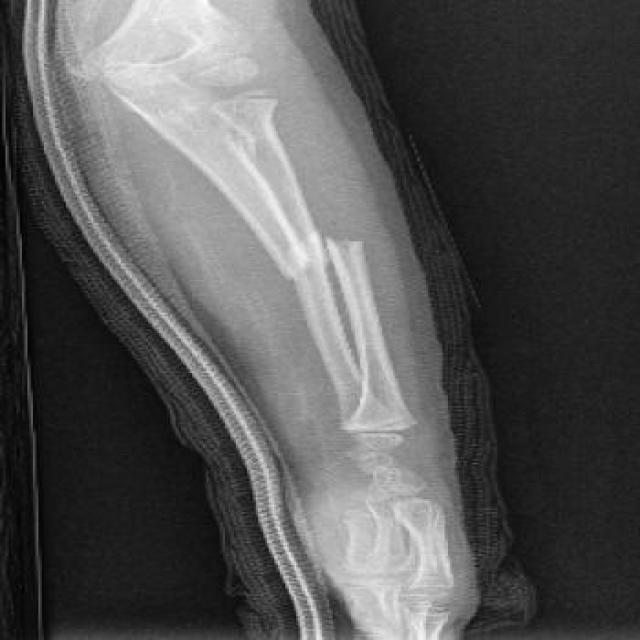Fracture: (260, 226, 376, 282)
